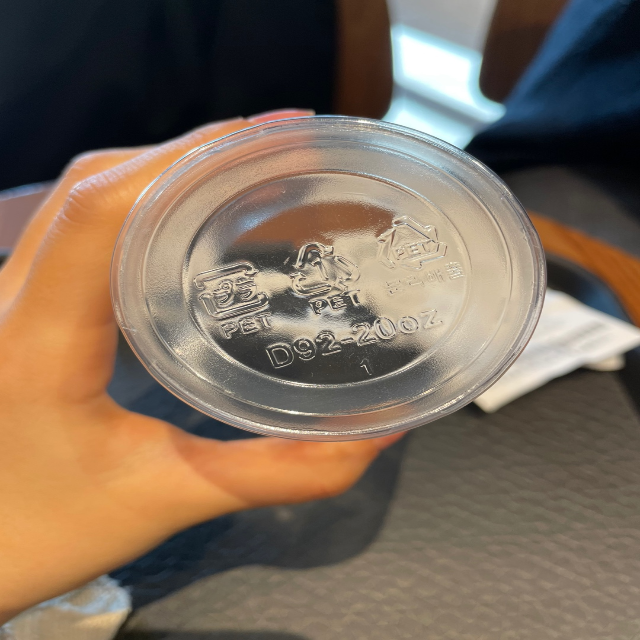pet: (379, 202, 470, 302), (190, 252, 277, 339), (289, 237, 367, 316)
